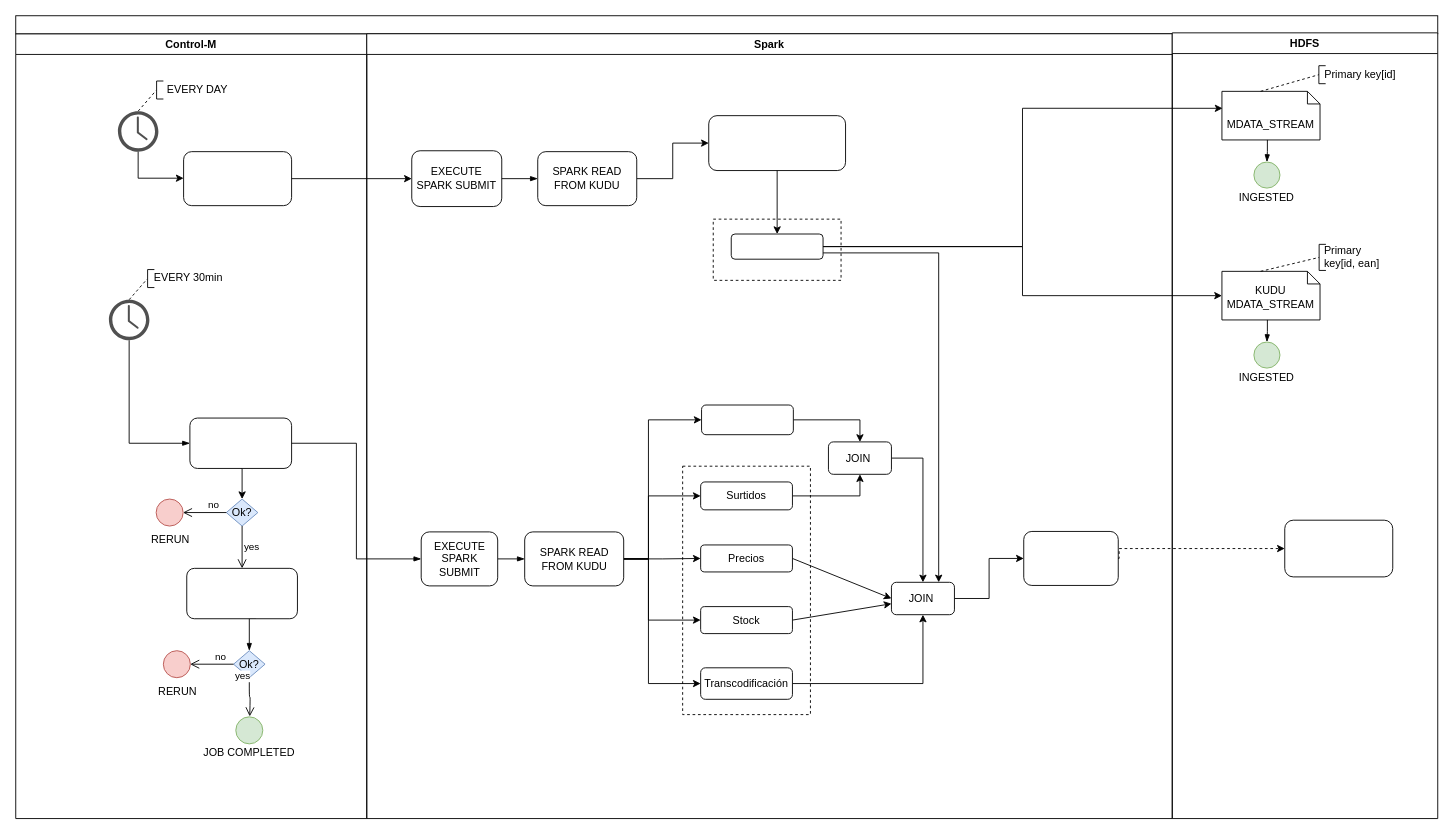
This 1454x834 diagram has some shape labels left out. The centre of each missing label's shape, as x and y in pixels:
CLOUDERA: (726,24)
EXECUTE AND SEND TO ASWELL: (241,593)
EXECUTE BATCH INGESTION: (237,178)
EXECUTE BATCH PROCESS: (240,442)
IMAGES METADATA: (777,143)
Imágenes: (776,246)
MAP TO HDFS: (1070,558)
SAVE HDFS: (1338,548)
Tiendas Acuerdo: (747,419)
